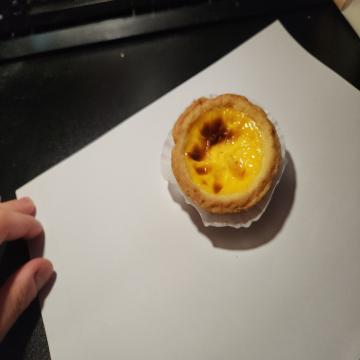EggTart: (171, 93, 281, 212)
